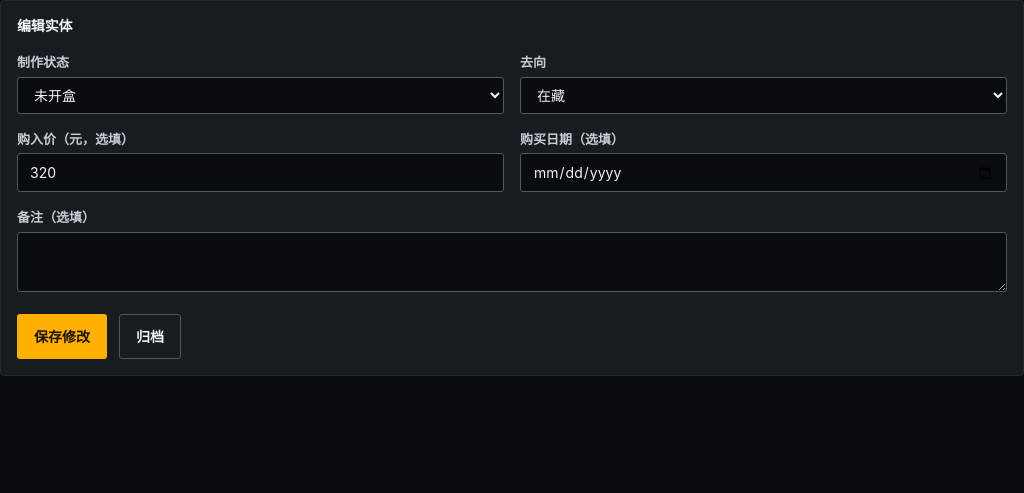
Test case: AssetEditForm 组件 › 切换为制作中时出现 1–99 进度输入
The width and height of the screenshot is (1024, 493).
Check: the field labelled "制作进度" is not shown
Select "制作中" in the dropdown labelled "制作状态" at [260, 95], box [17,76,504,114]
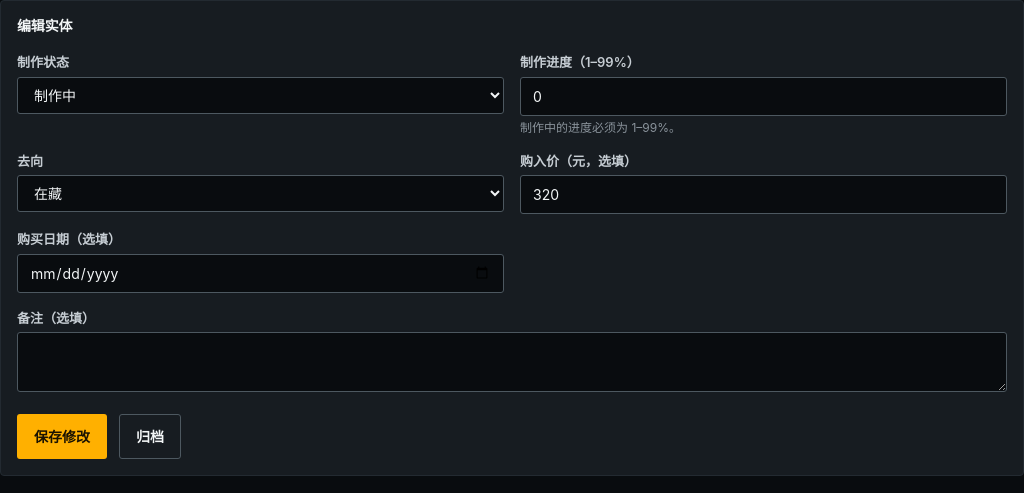
Check: the number field labelled "制作进度（1–99%）" is shown, box [520,76,1007,116]
